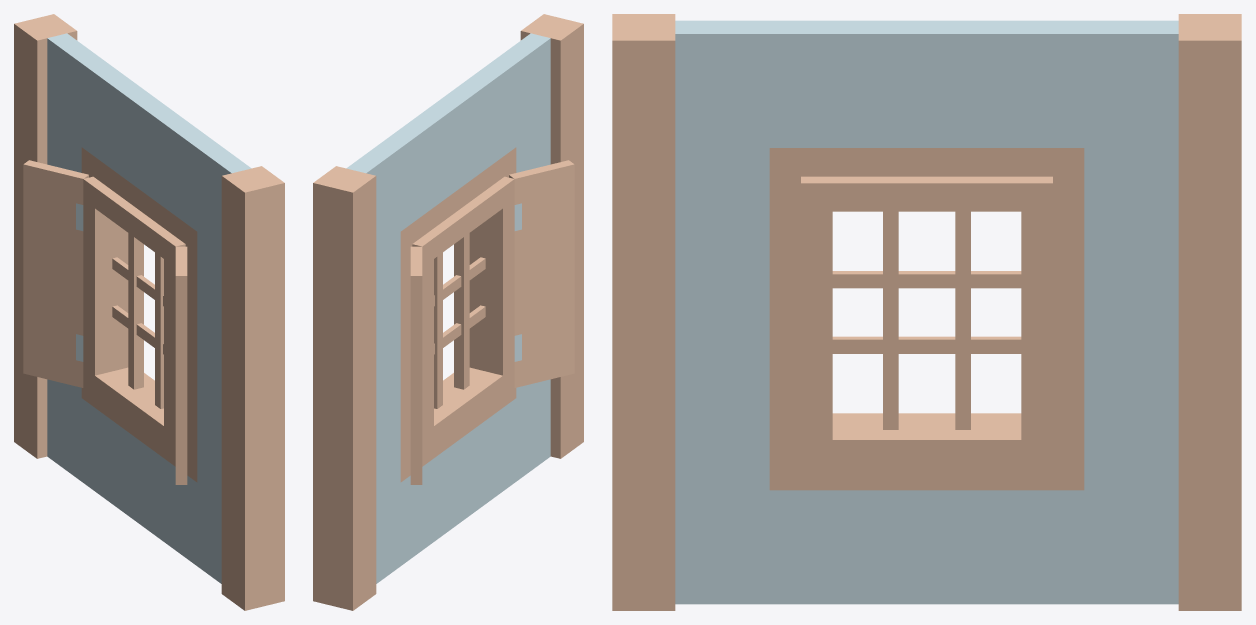
The picture shows the model from 3 angles, left to right: view 1: azimuth 30°, elevation 25°; view 2: azimuth 150°, elevation 25°; view 3: azimuth 270°, elevation 25°; orthographic projection. The views are drawn at different scales.
Visible parts, largest first — view 1: wallWindowShutters, shutter (×2), detail; view 2: wallWindowShutters, shutter (×2), detail; view 3: wallWindowShutters, detail.
Part boxes in pixels (box(x1,y1,x2,y2)): wallWindowShutters: box(14, 14, 284, 610); shutter (×2): box(23, 160, 187, 484); detail: box(112, 233, 163, 408); wallWindowShutters: box(313, 14, 583, 610); shutter (×2): box(410, 160, 574, 484); detail: box(434, 233, 485, 408); wallWindowShutters: box(612, 14, 1241, 610); detail: box(832, 211, 1021, 429).
Size of the model in its own units: 0.175 by 1 by 1.
